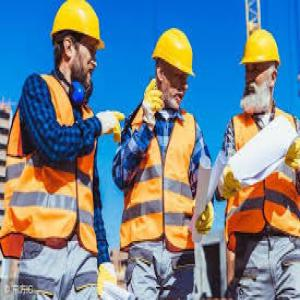yellow: (49, 3, 105, 90), (152, 26, 196, 109), (238, 31, 284, 109)
